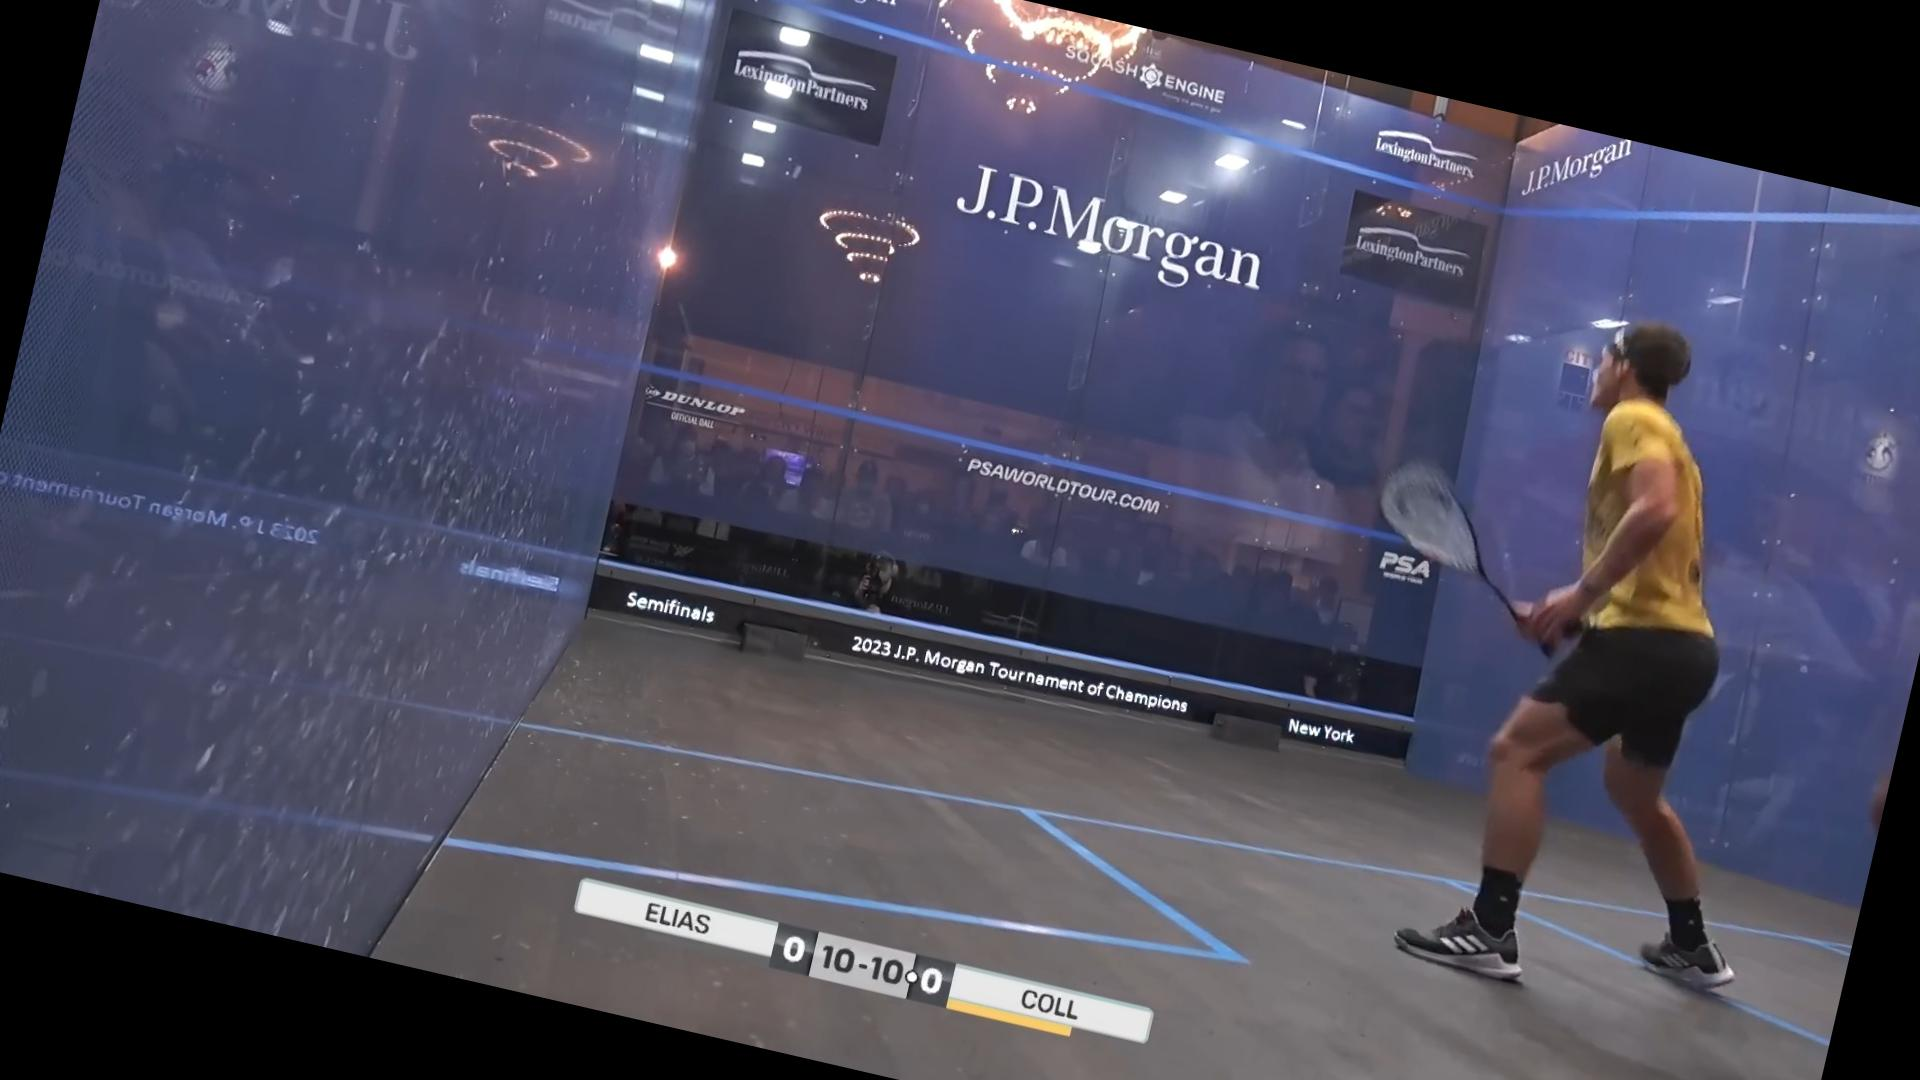Racket: (1353, 434, 1571, 634)
